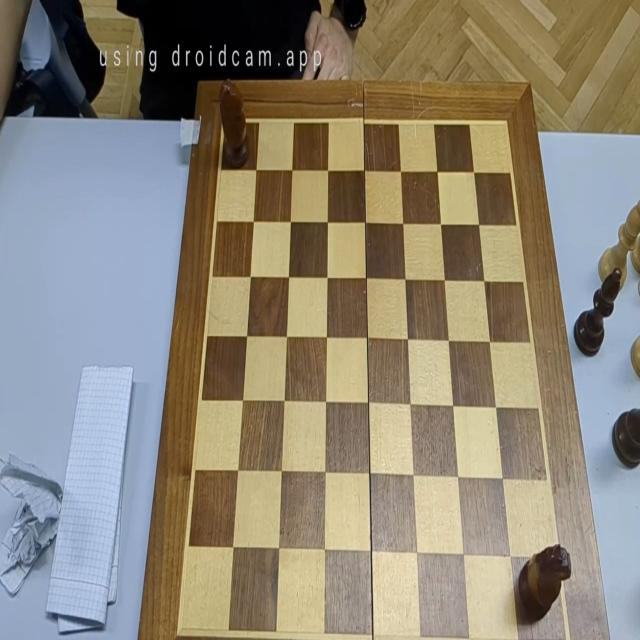black_knight: (518, 543, 572, 620), (219, 79, 250, 168)
